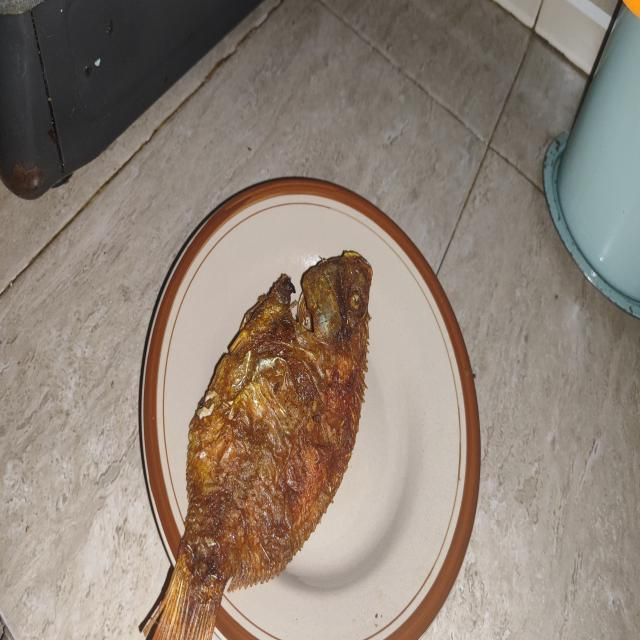ikan_mujair: (153, 251, 372, 640)
